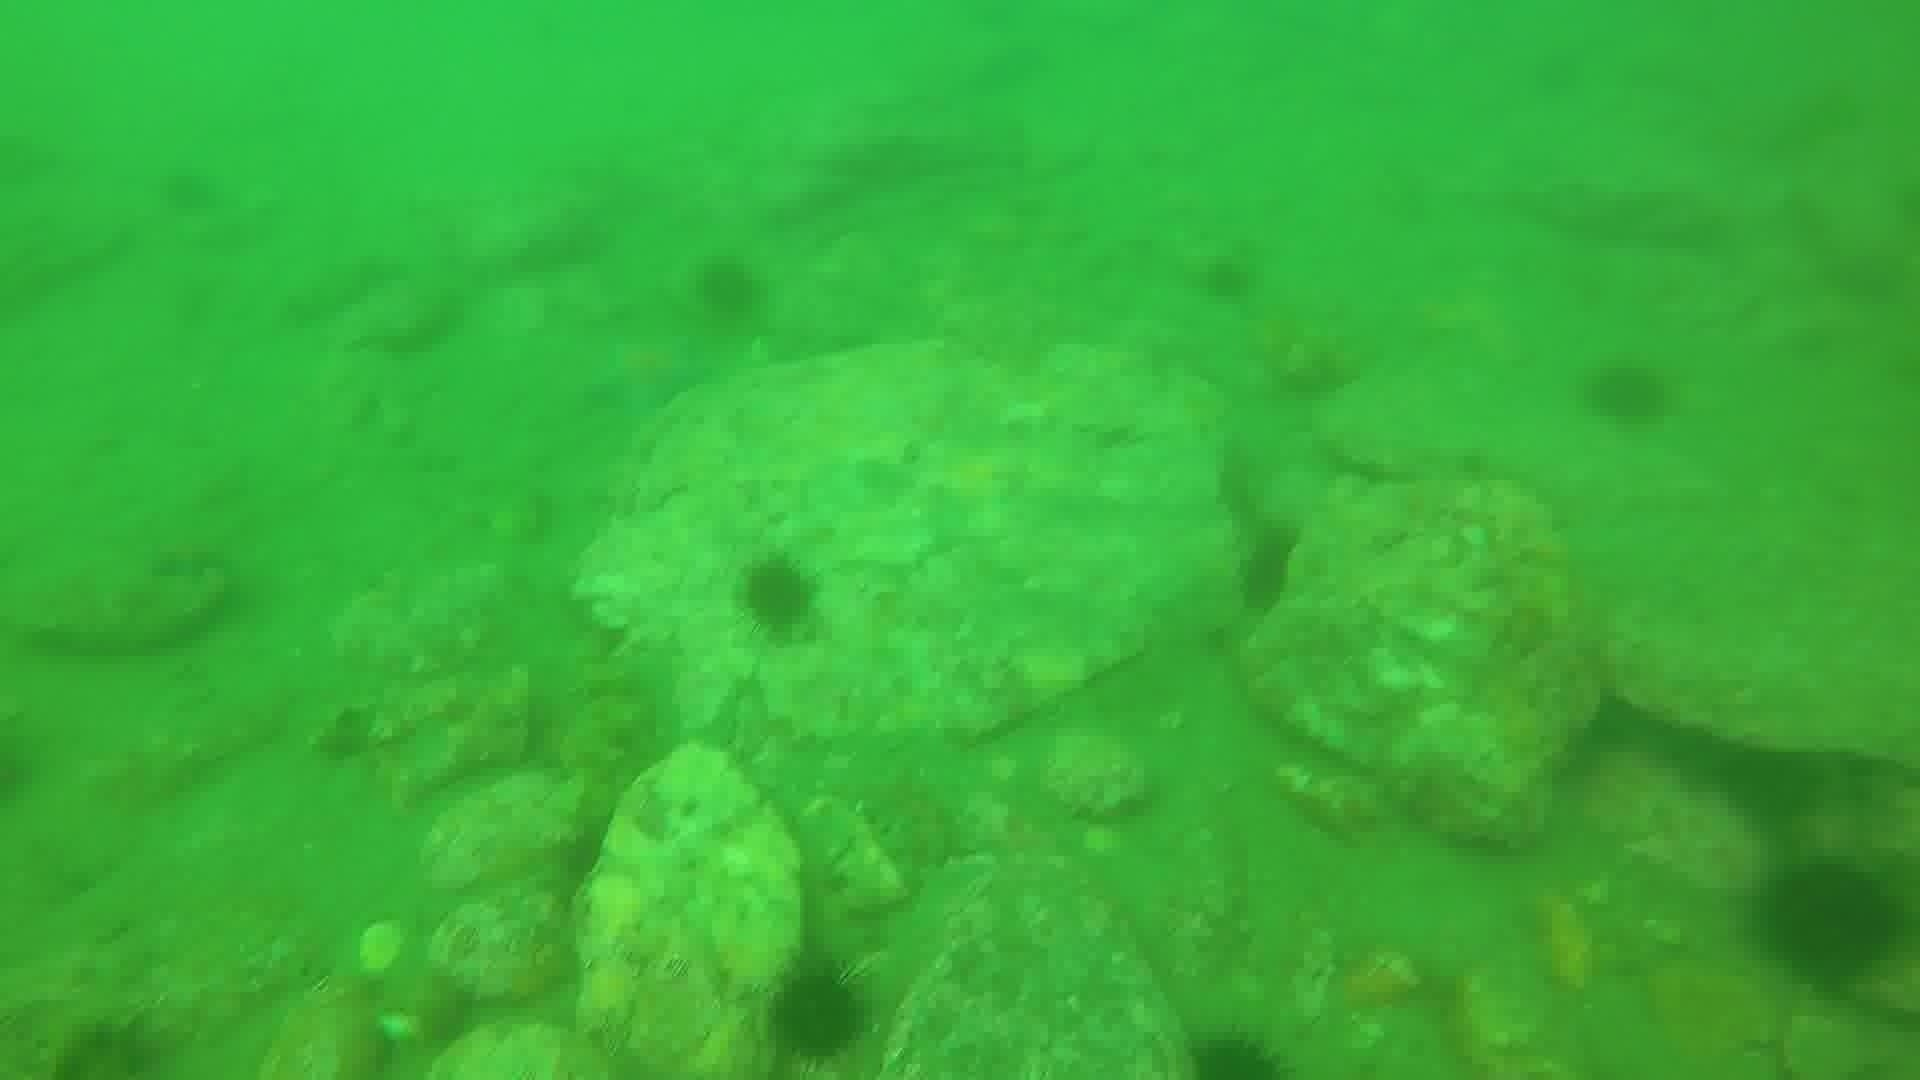echinus: (1754, 853, 1904, 988), (761, 959, 873, 1068), (47, 1011, 171, 1077), (733, 553, 822, 640), (1582, 356, 1676, 433), (1230, 524, 1304, 618), (1182, 1025, 1288, 1080), (688, 252, 769, 324), (1193, 251, 1261, 307)
holothurian: (825, 760, 971, 873)
starfish: (582, 331, 713, 423)
